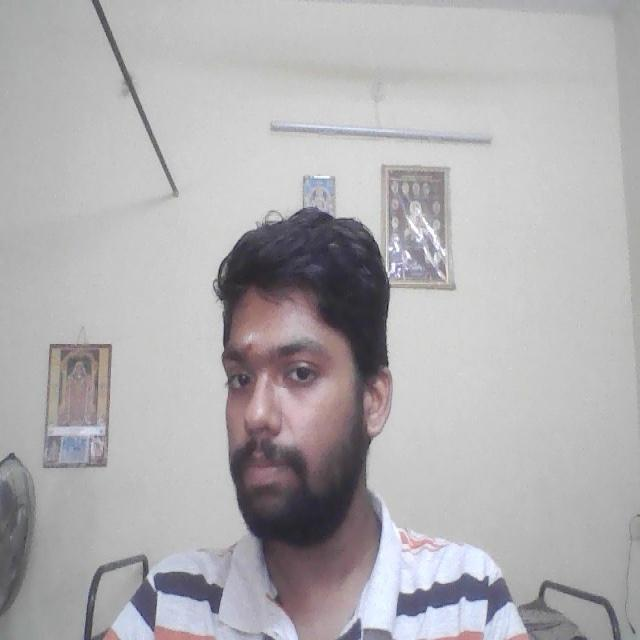Focused: (220, 304, 352, 506)
